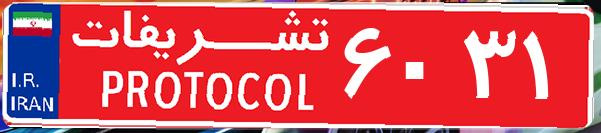0: (400, 20, 460, 115)
1: (520, 20, 580, 115)
3: (460, 20, 520, 115)
6: (340, 20, 400, 115)
تشریفات: (60, 8, 340, 125)
